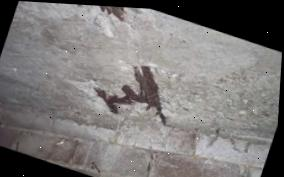exposed_rebar: (95, 65, 166, 124), (100, 6, 125, 20)
spalling: (76, 5, 156, 37)
